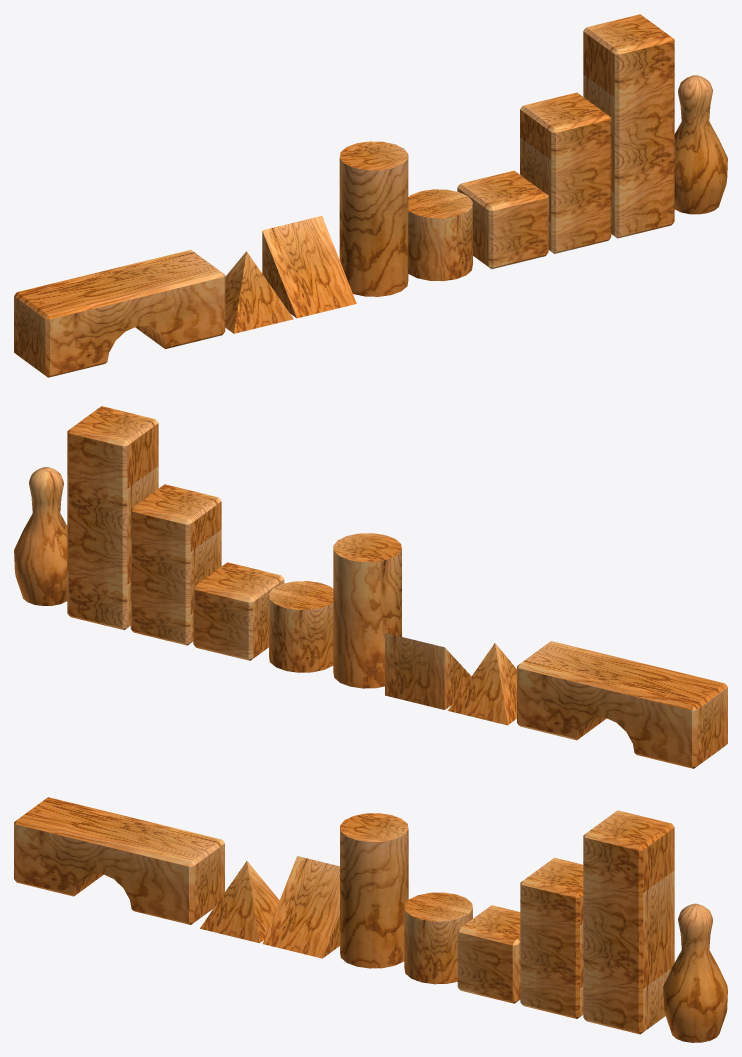
The model's file is AllBlocks.FBX.
3 views of the same model, one above another, from view 1: azimuth 30°, elevation 25°; view 2: azimuth 150°, elevation 25°; view 3: azimuth 330°, elevation 25° (orthographic).
Visible parts, largest first — view 1: object 7, Rectangle001, Rectangle, Cylinder002, Triangle, Cube, Pin, Cylinder, Pyramid; view 2: object 7, Rectangle001, Rectangle, Cylinder002, Cube, Pin, Cylinder, Triangle, Pyramid; view 3: Rectangle001, object 7, Cylinder002, Rectangle, Pin, Triangle, Cube, Cylinder, Pyramid.
Part boxes in pixels (bbox=[...]): object 7: bbox=[14, 249, 225, 377]; Rectangle001: bbox=[583, 14, 674, 238]; Rectangle: bbox=[520, 92, 611, 253]; Cylinder002: bbox=[339, 141, 408, 296]; Triangle: bbox=[262, 216, 356, 318]; Cube: bbox=[457, 170, 548, 269]; Pin: bbox=[674, 75, 727, 214]; Cylinder: bbox=[408, 189, 472, 281]; Pyramid: bbox=[225, 251, 293, 333]; object 7: bbox=[517, 641, 727, 768]; Rectangle001: bbox=[67, 406, 158, 630]; Rectangle: bbox=[130, 484, 221, 645]; Cylinder002: bbox=[333, 533, 401, 688]; Cube: bbox=[193, 562, 284, 660]; Pin: bbox=[14, 467, 67, 605]; Cylinder: bbox=[269, 581, 333, 672]; Triangle: bbox=[385, 633, 471, 709]; Pyramid: bbox=[448, 643, 516, 725]; Rectangle001: bbox=[583, 810, 674, 1034]; object 7: bbox=[14, 797, 224, 924]; Cylinder002: bbox=[340, 813, 408, 968]; Rectangle: bbox=[520, 857, 583, 1018]; Pin: bbox=[663, 903, 727, 1042]; Triangle: bbox=[262, 856, 339, 958]; Cube: bbox=[457, 905, 520, 1003]; Cylinder: bbox=[404, 892, 472, 984]; Pyramid: bbox=[200, 861, 279, 943].
Size of what is drawn, in the model's own units: 456 by 118 by 39.67.
1 material, 1 textured.
